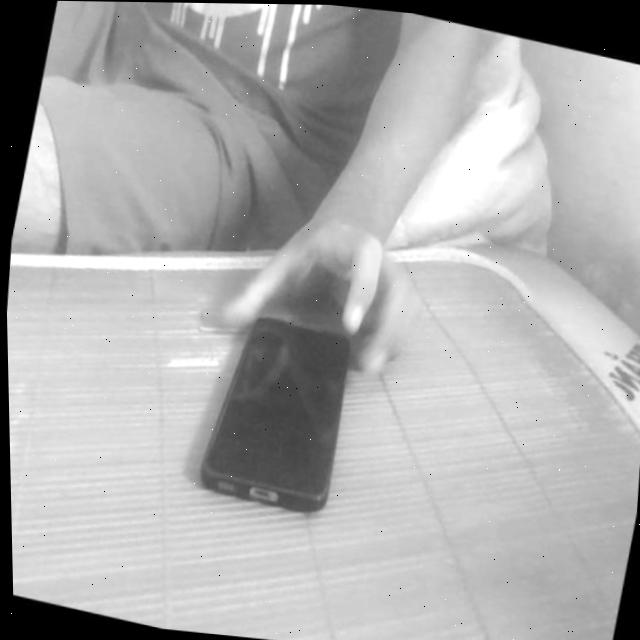phone: (166, 263, 386, 549)
